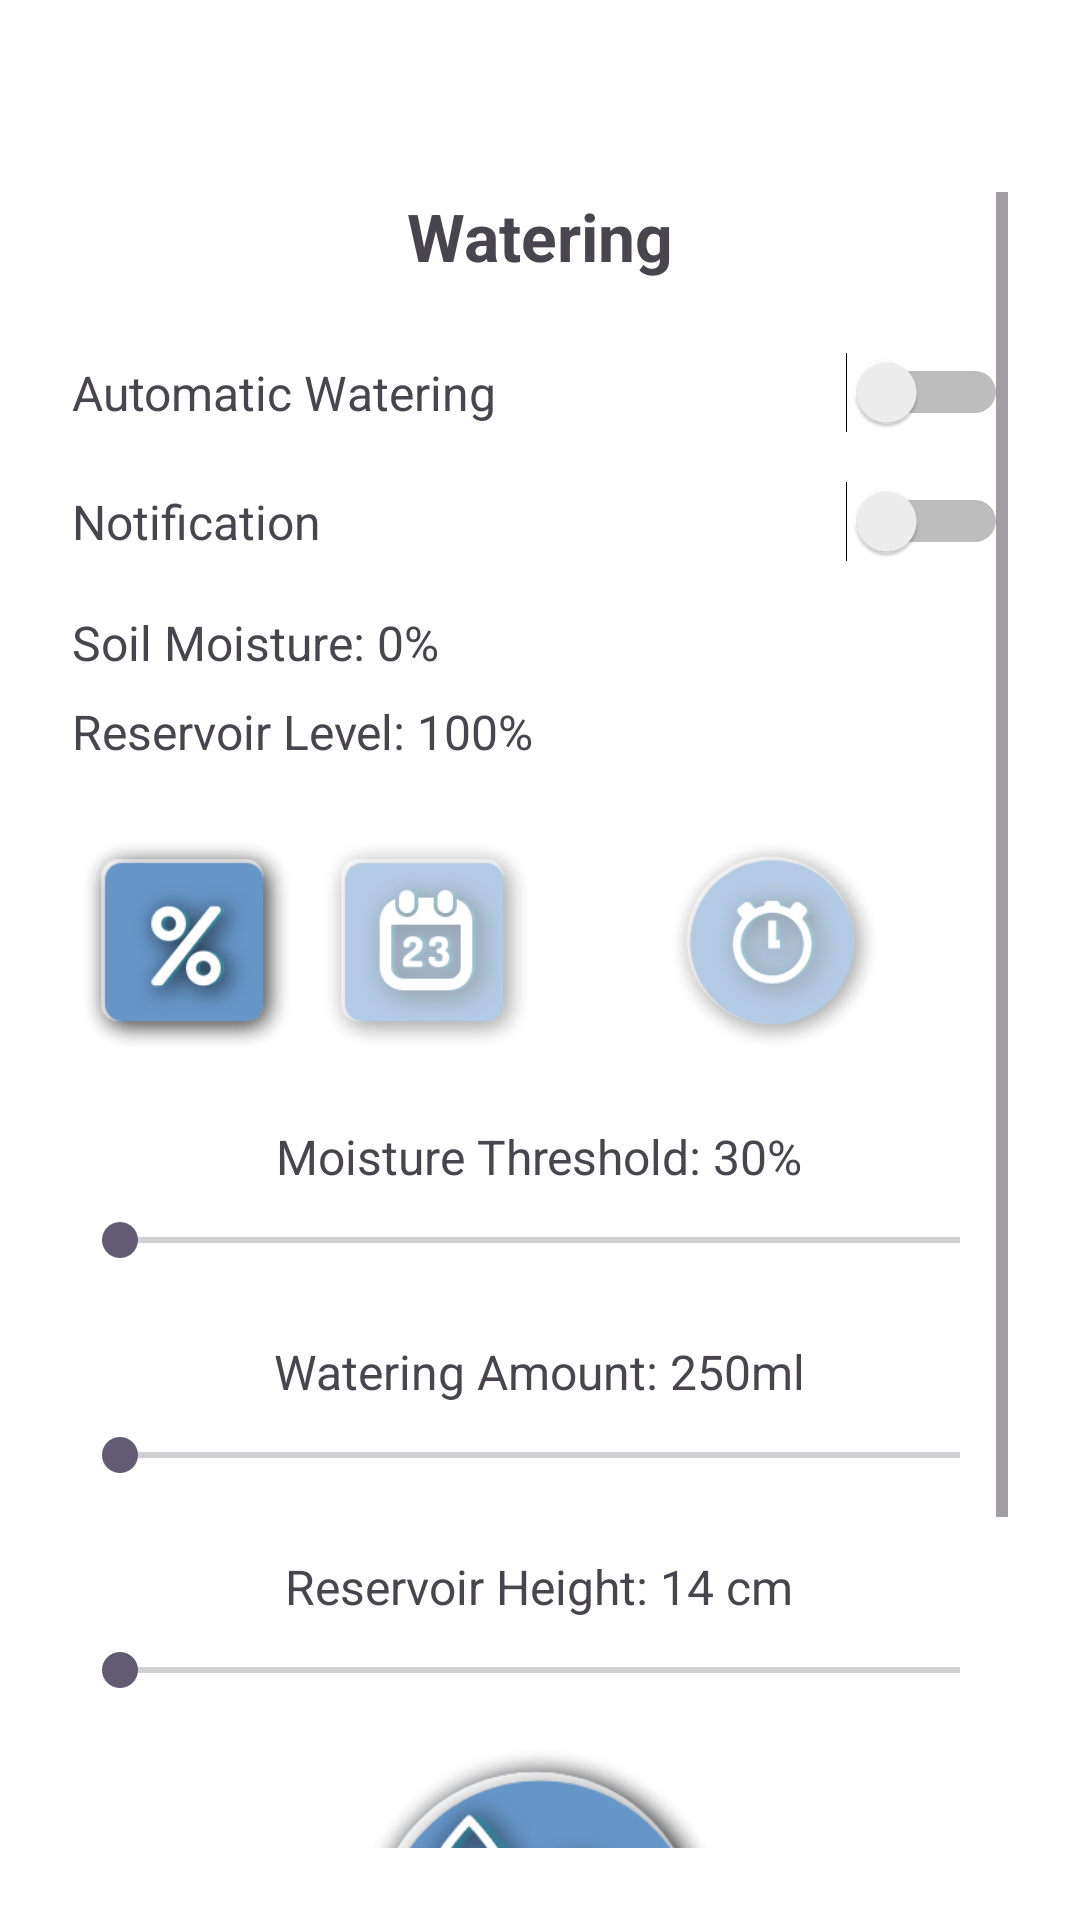

Point at icon controls on the screen. Image size 1080w x 1920h, points as (x,y).
Threshold Mode: (186,944)
